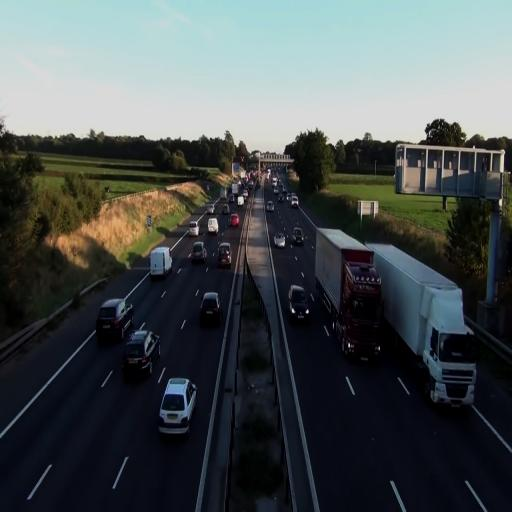vehicle: (370, 243, 478, 411), (314, 227, 384, 365), (158, 376, 197, 435), (120, 328, 160, 377), (96, 297, 134, 344), (288, 285, 311, 324), (149, 245, 173, 281), (199, 291, 222, 328), (150, 246, 172, 280), (189, 241, 207, 265), (217, 242, 232, 269), (207, 214, 219, 235), (292, 226, 304, 245), (273, 233, 287, 248), (266, 198, 276, 212), (290, 196, 298, 209)
